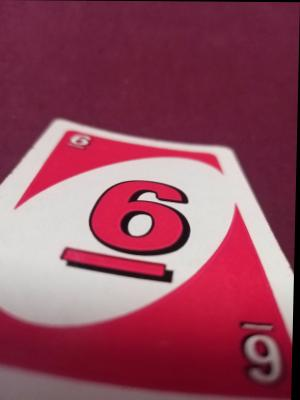num_6: (227, 311, 294, 391), (64, 128, 99, 154)
